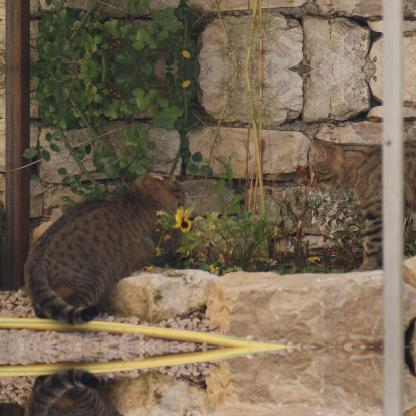Cat: (24, 168, 200, 324), (304, 134, 416, 270), (24, 368, 201, 415)
